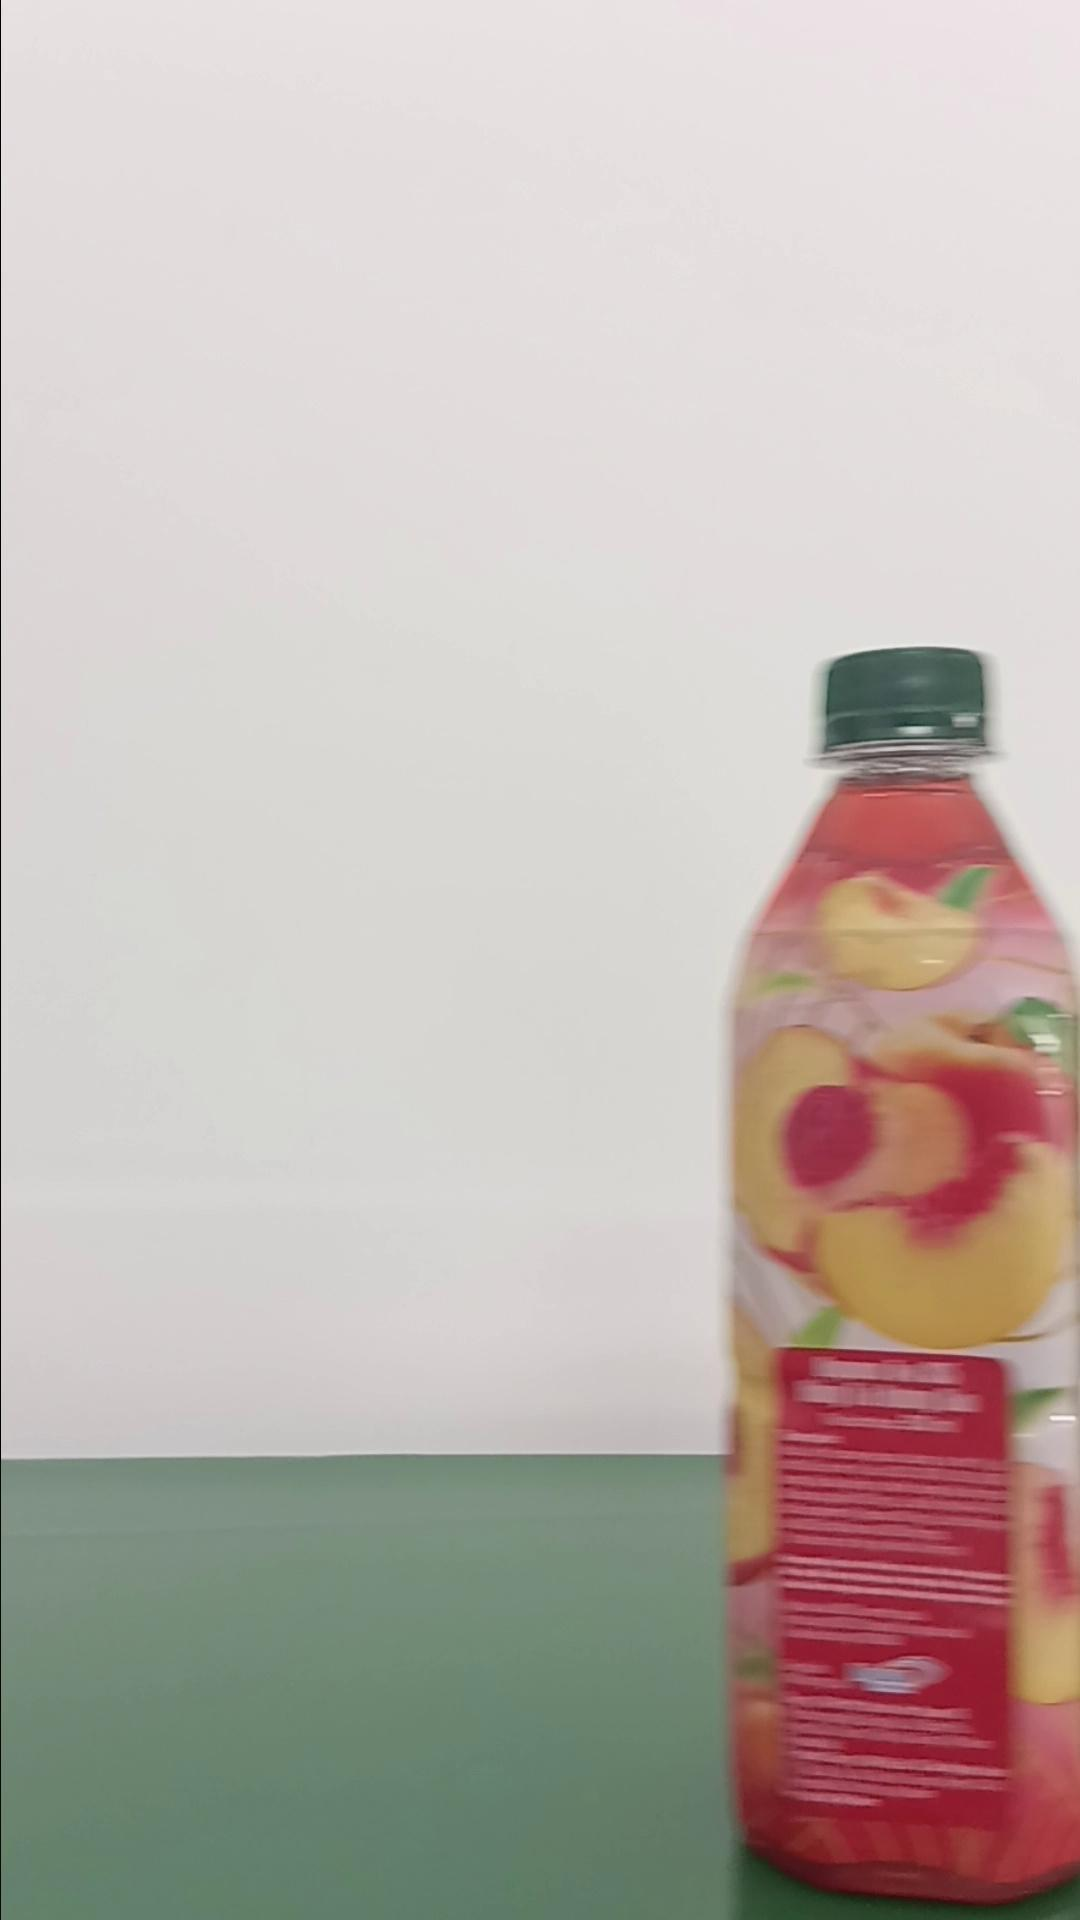khong loi: (720, 644, 1076, 1902)
